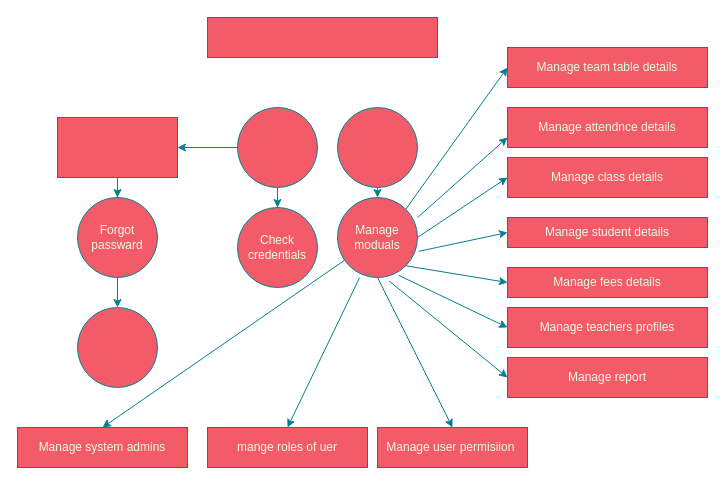
This 725x485 diagram has some shape labels left out. The centre of each missing label's shape, as x and y in pixels:
Admin: point 117,147
Click roles of access: point 377,147
Log in to system: point 277,147
Send email to user: point 117,347
Student information system: point 322,37
